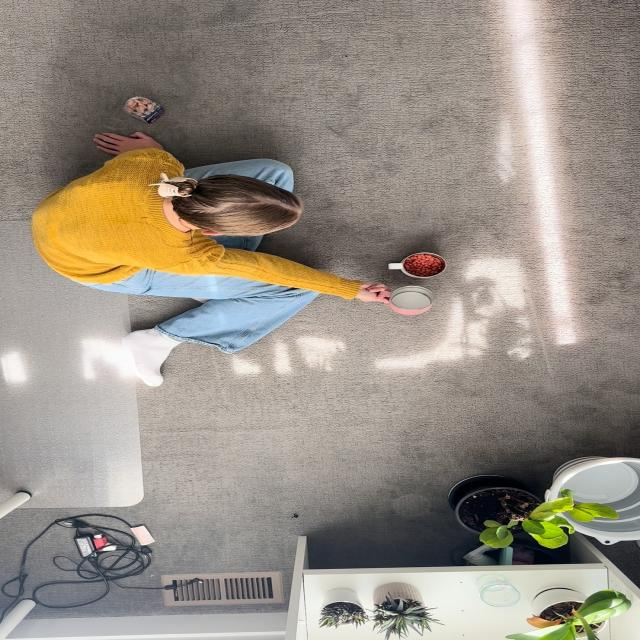IBC: (388, 252, 445, 278), (388, 285, 432, 315)
